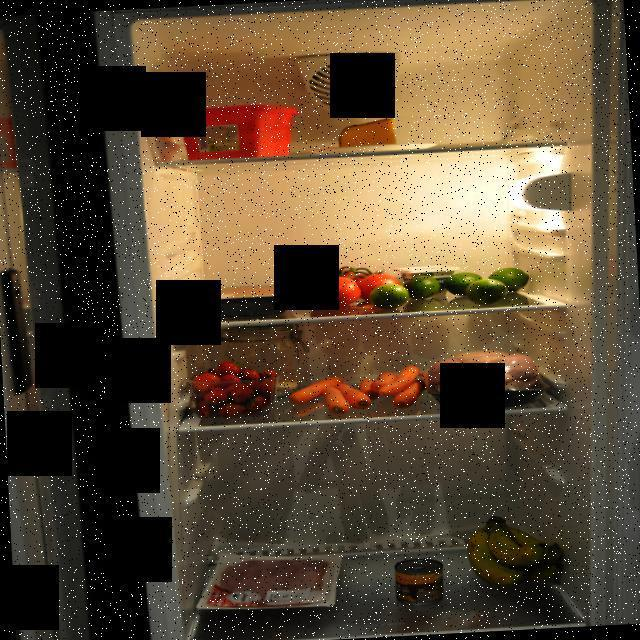banana: (463, 509, 573, 592)
beef: (175, 280, 303, 321)
butter: (173, 100, 303, 163)
carrot: (284, 364, 429, 418)
cheese: (334, 115, 404, 155)
chicken: (424, 341, 553, 412)
corn: (392, 556, 450, 608)
flour: (209, 316, 313, 402)
ham: (208, 552, 334, 612)
lime: (370, 265, 536, 313)
strawberries: (188, 356, 276, 422)
tomato: (300, 257, 407, 309)
